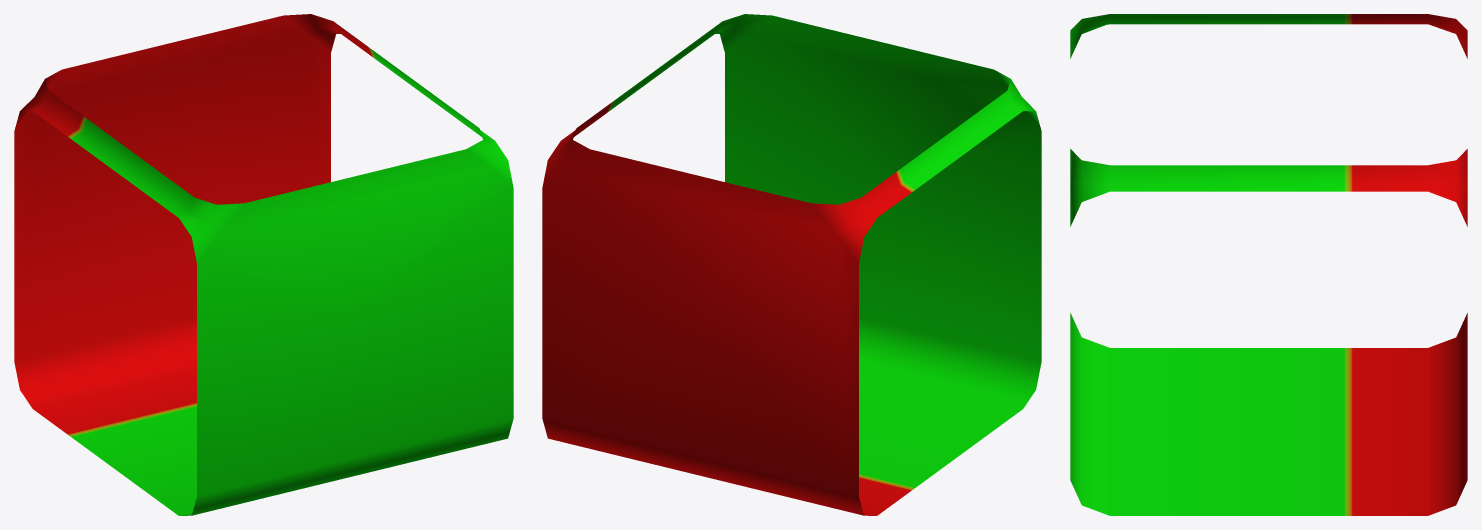
File: Grass-┘_└.fbx
3 renders of one model, left to right at view 1: azimuth 30°, elevation 25°; view 2: azimuth 150°, elevation 25°; view 3: azimuth 270°, elevation 25°, orthographic. The views are drawn at different scales.
Visible parts, largest first — view 1: Grass-┘_└; view 2: Grass-┘_└; view 3: Grass-┘_└.
Boxes of the visible parts, x1,y1,x2,y2 form: Grass-┘_└: [14, 14, 513, 515]; Grass-┘_└: [542, 14, 1041, 515]; Grass-┘_└: [1070, 14, 1467, 515].
Bounding box in the file's own units: 100 × 100 × 95.
